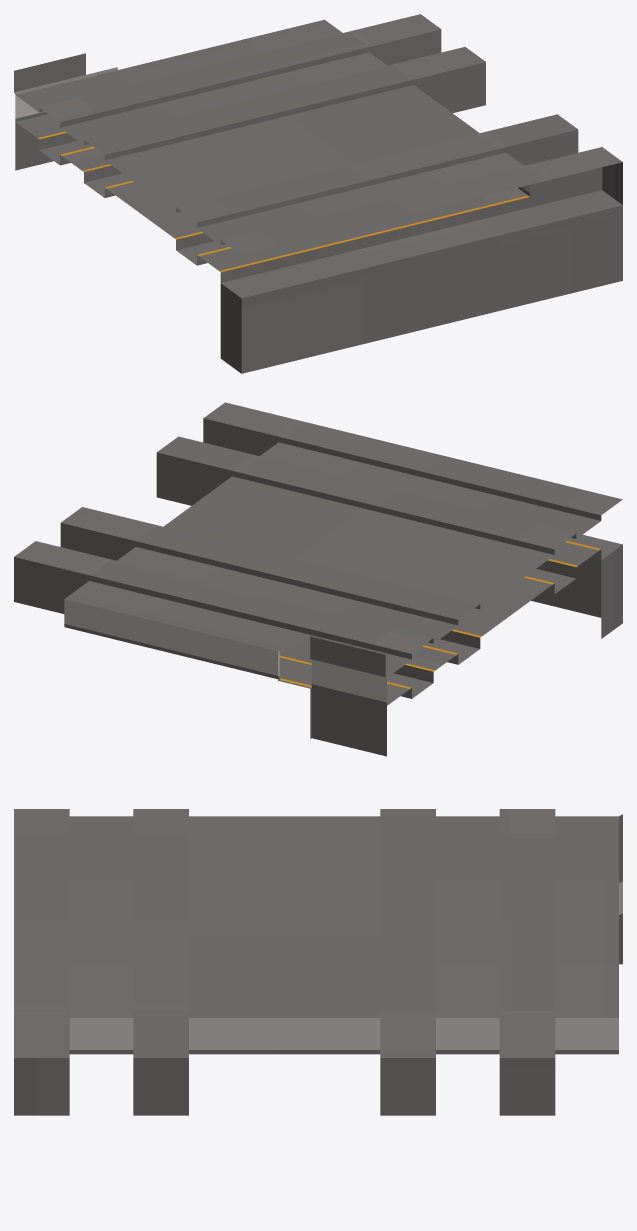
Rendered from MainAreaTrain.fbx.
3 renders of one model, top to bottom at view 1: azimuth 30°, elevation 25°; view 2: azimuth 150°, elevation 25°; view 3: azimuth 270°, elevation 25°, orthographic. The views are drawn at different scales.
Visible parts, largest first — view 1: Plane.001; view 2: Plane.001; view 3: Plane.001.
Boxes of the visible parts, x1,y1,x2,y2 form: Plane.001: [14, 14, 622, 373]; Plane.001: [14, 402, 622, 756]; Plane.001: [14, 809, 622, 1115].
Bounding box in the file's own units: 37 × 38.25 × 12.65.
3 materials, 3 textured.
